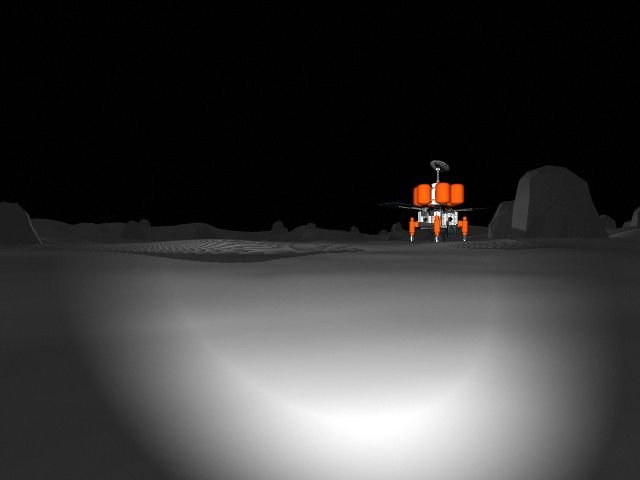homebase: (381, 158, 491, 245)
